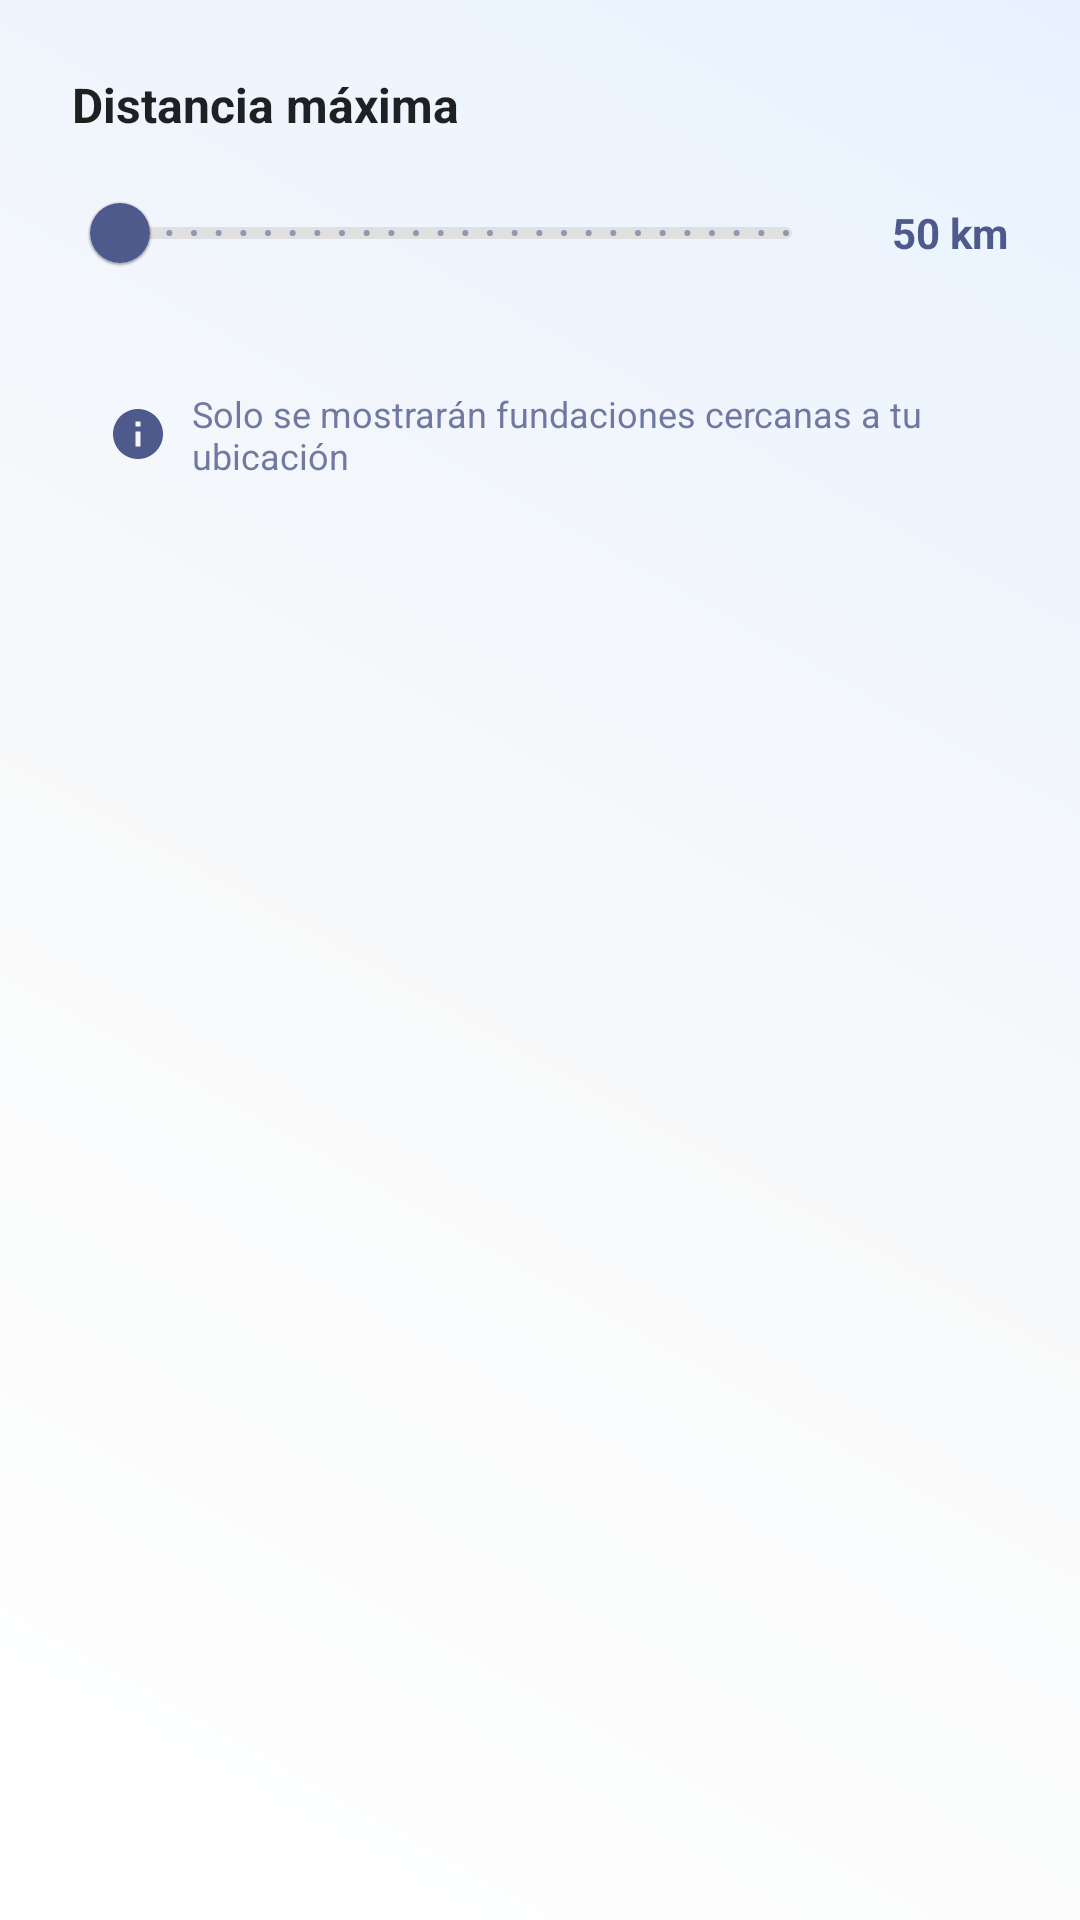

Screen size 1080×1920. Icon name, then its center in pixels as (x=x, y=y):
info: (x=138, y=434)
